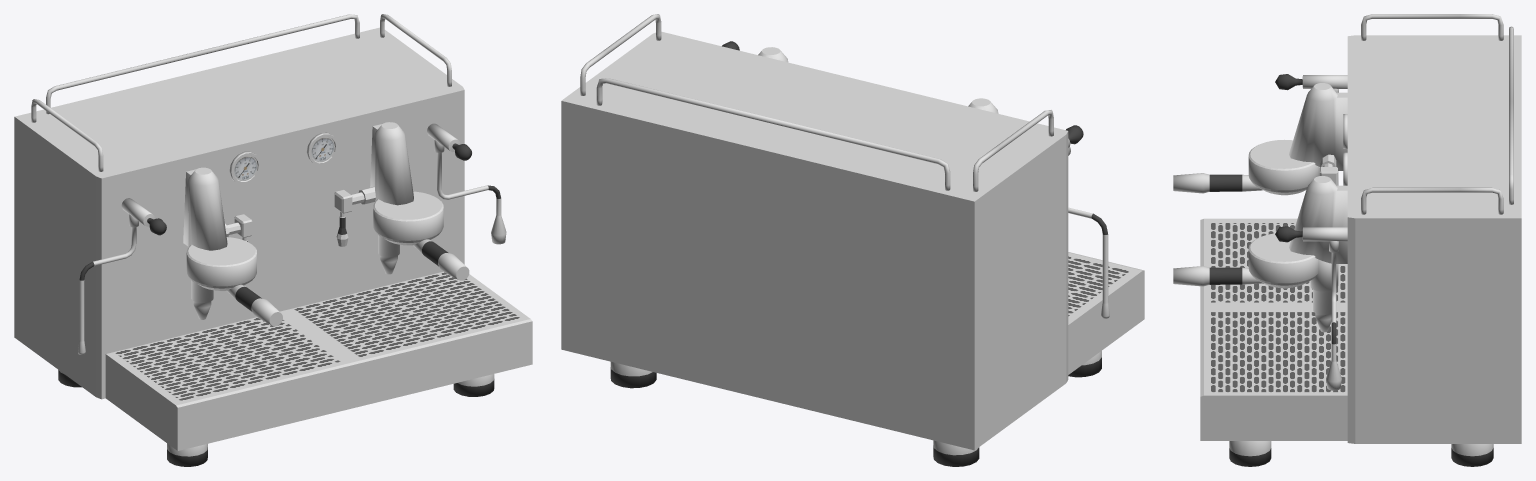
Rendered from scopia-coffee_machine-quality-v2.glb.
3 views of the same model, side by side, from view 1: azimuth 30°, elevation 25°; view 2: azimuth 150°, elevation 25°; view 3: azimuth 270°, elevation 25° (orthographic). The views are drawn at different scales.
Visible parts, largest first — view 1: coffee_machine; view 2: coffee_machine; view 3: coffee_machine.
Part boxes in pixels (x1=…): coffee_machine: x1=14, y1=14, x2=532, y2=466; coffee_machine: x1=561, y1=14, x2=1144, y2=466; coffee_machine: x1=1173, y1=14, x2=1521, y2=466.
Size of the model in its own units: 0.582 by 0.364 by 0.402.
2 materials, 1 textured.
